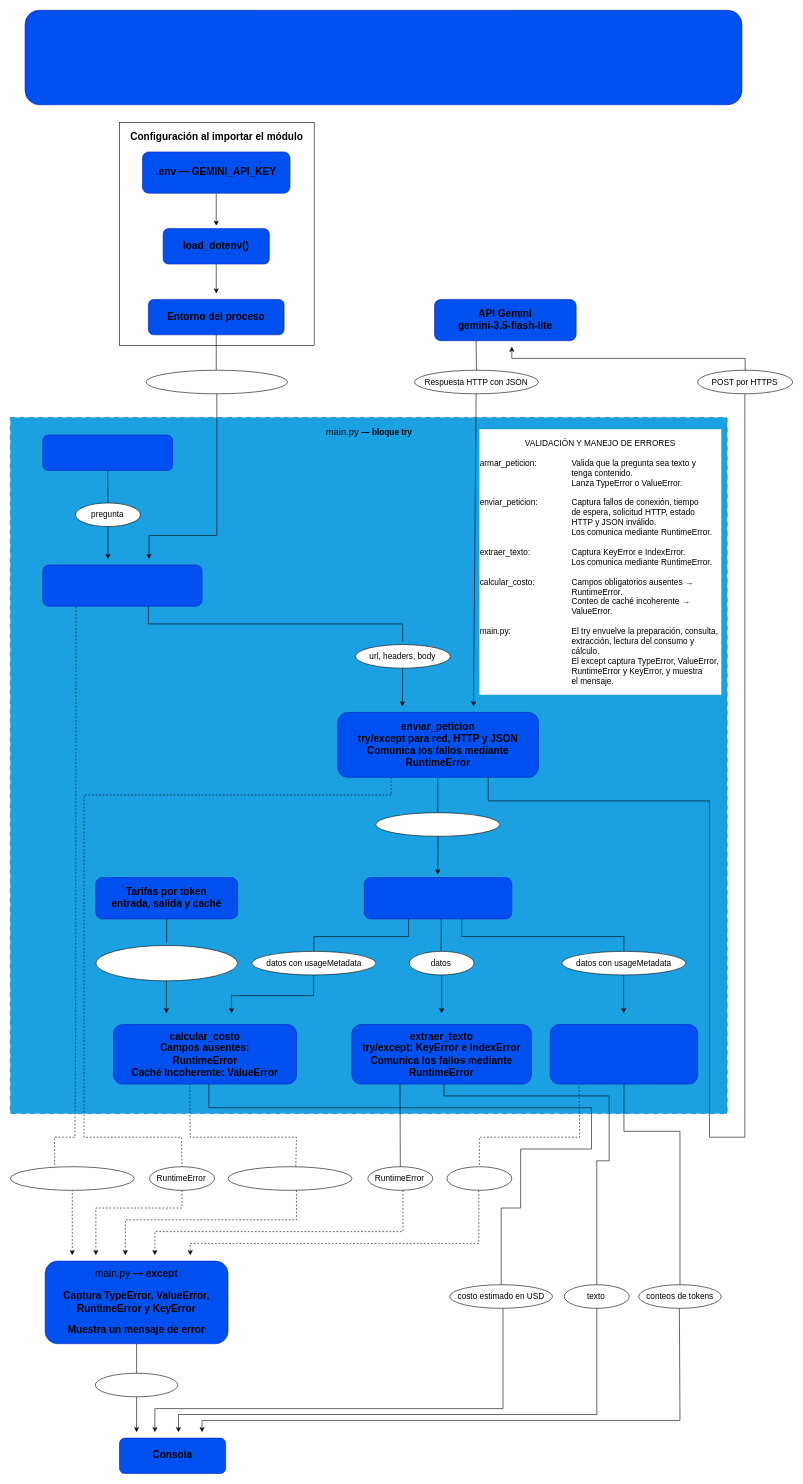
Some shapes in this 803 by 1484 pixel diagram are drawn without their labels. The centre of each missing label's shape, as x and y in pixels:
armar_peticion Valida la pregunta Prepara URL, headers y body: the point at 122,585
datos: diccionario Python: the point at 438,898
KeyError: the point at 479,1178
main.py — Consulta a Gemini: texto, consumo y costo: the point at 383,57
main.py: lectura de usageMetadata Obtiene los conteos para mostrarlos: the point at 624,1054
mensaje de error: the point at 136,1385
os.getenv('GEMINI_API_KEY'): the point at 216,382
precio_entrada, precio_salida, precio_cache: the point at 166,963
Pregunta de prueba: the point at 107,453
respuesta_http.json(): the point at 437,824
RuntimeError/ValueError: the point at 289,1178
TypeError/ValueError: the point at 72,1178
